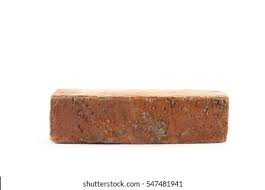brick: (52, 88, 228, 143)
